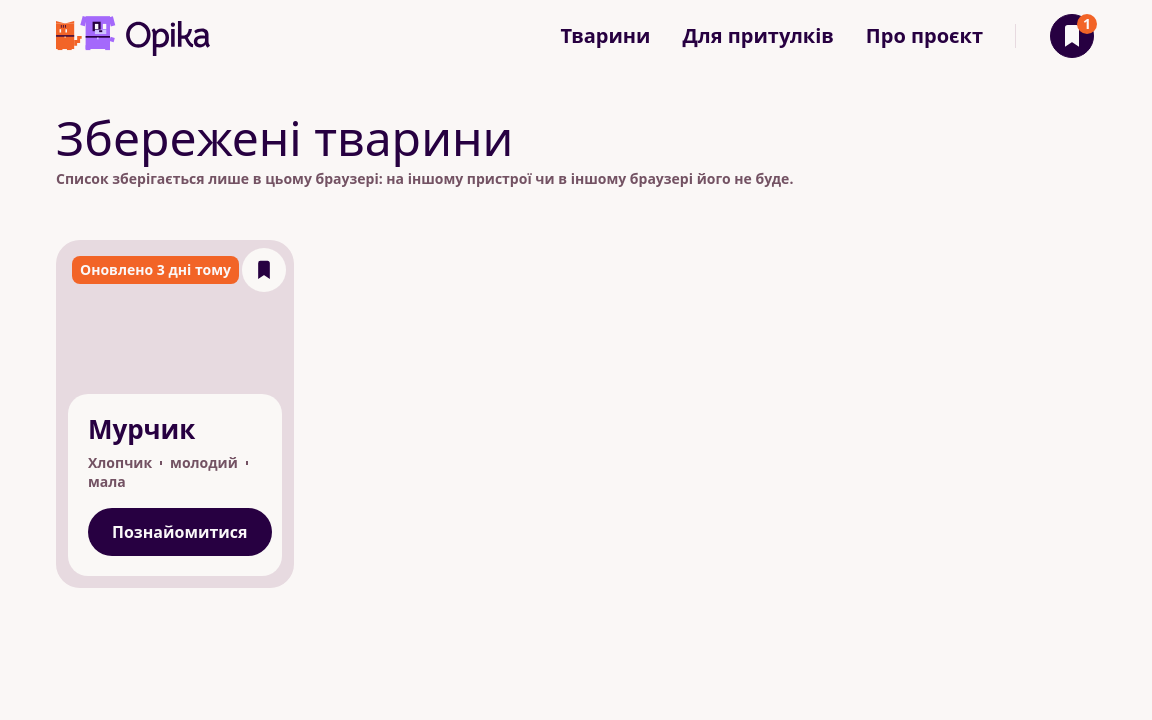
saved page – the remove bookmark › the last card removed gives the empty state with the toast still shown, and undo brings the card back
Expected: the link "Мурчик" is shown, [56,240,294,588]
Click the button named "Прибрати зі збережених". click: [264, 270]
box: [242,248,286,292]
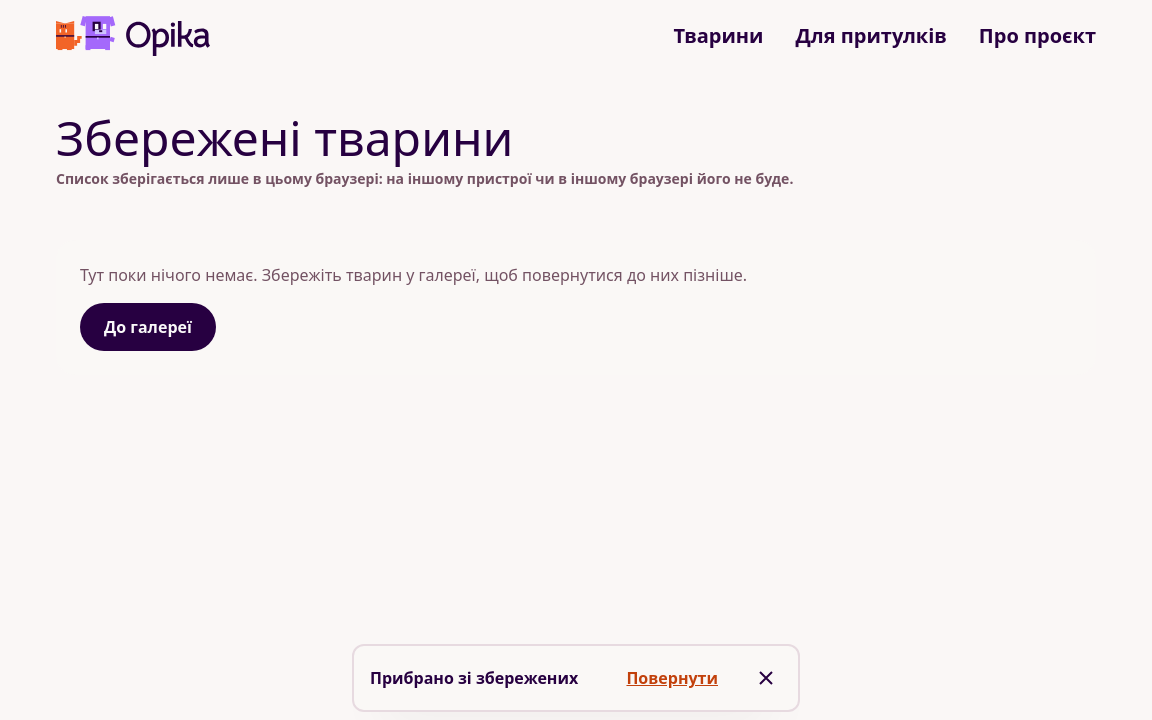
Expected: the element with test id "saved-empty" is shown, [56,240,1096,375]
Expected: the text "Прибрано зі збережених" is shown, [370,667,602,689]
Expected: the button "Повернути" is shown
Click the button "Повернути". click: [672, 678]
box: [614,654,730,702]
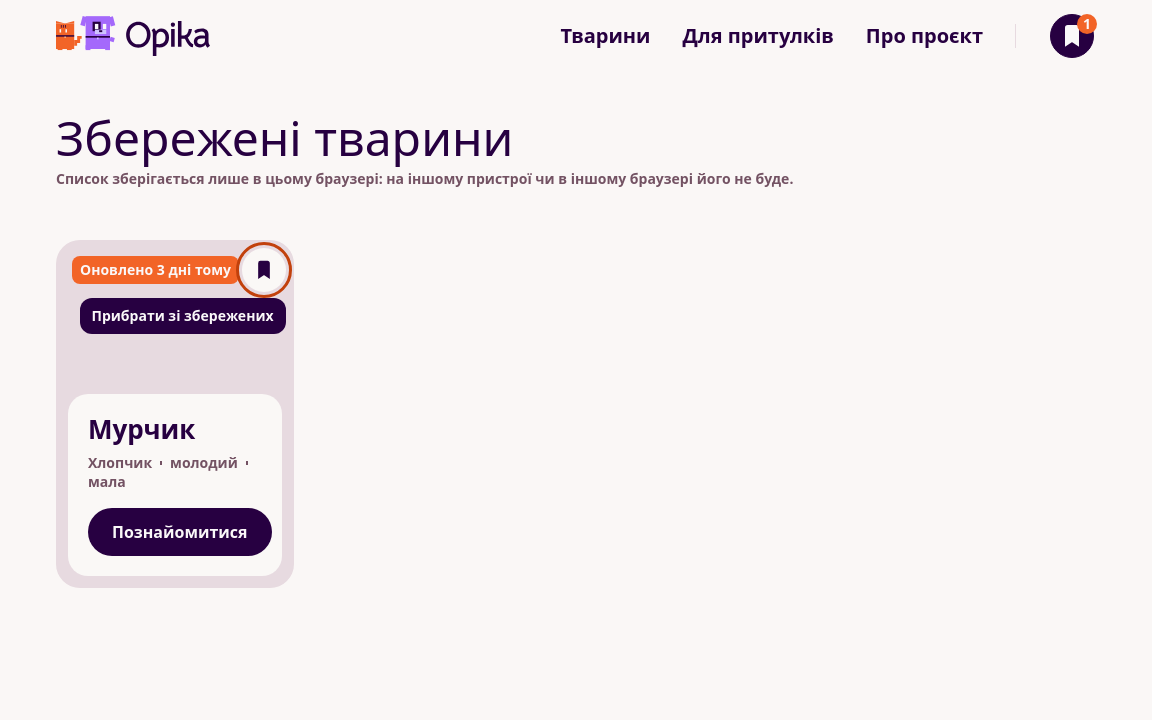
Expected: the link "Мурчик" is shown, [56,240,294,588]
Expected: the element with test id "saved-empty" is gone
